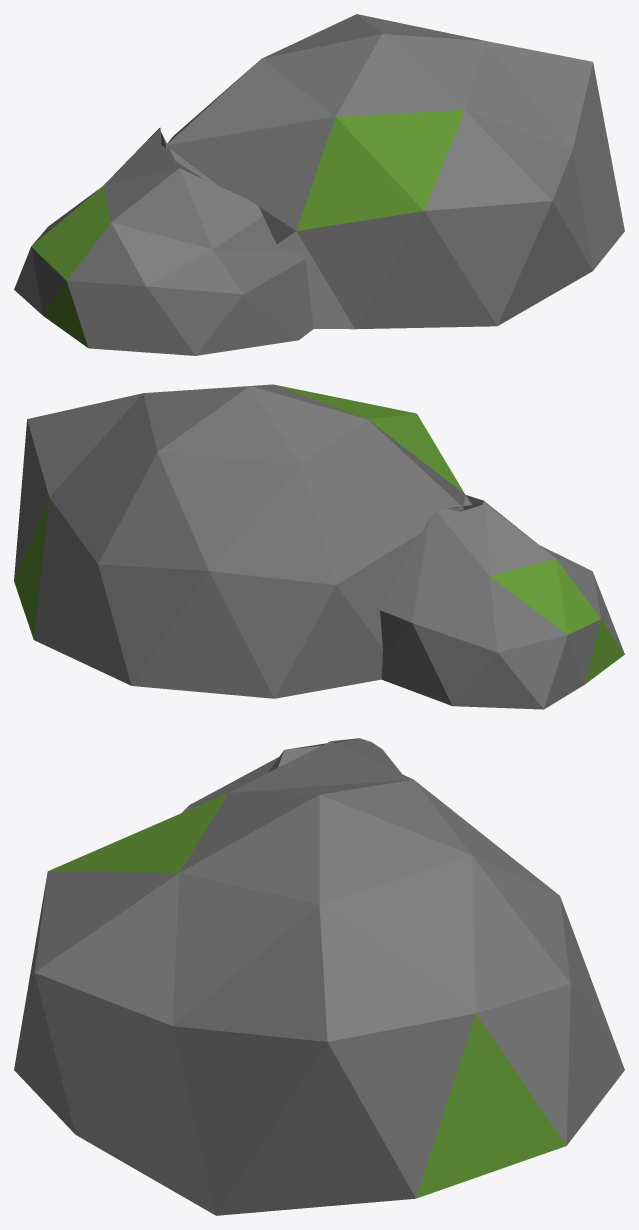
File: Rock1.fbx
3 views of the same model, one above another, from view 1: azimuth 30°, elevation 25°; view 2: azimuth 150°, elevation 25°; view 3: azimuth 270°, elevation 25° (orthographic). The views are drawn at different scales.
Parts seen in each view (by area): view 1: Rock 1; view 2: Rock 1; view 3: Rock 1.
Part boxes in pixels (left/top/right/bottom): Rock 1: left=14, top=14, right=624, bottom=355; Rock 1: left=14, top=384, right=624, bottom=709; Rock 1: left=14, top=738, right=624, bottom=1215.
Size of the model in its own units: 550 by 210 by 402.
